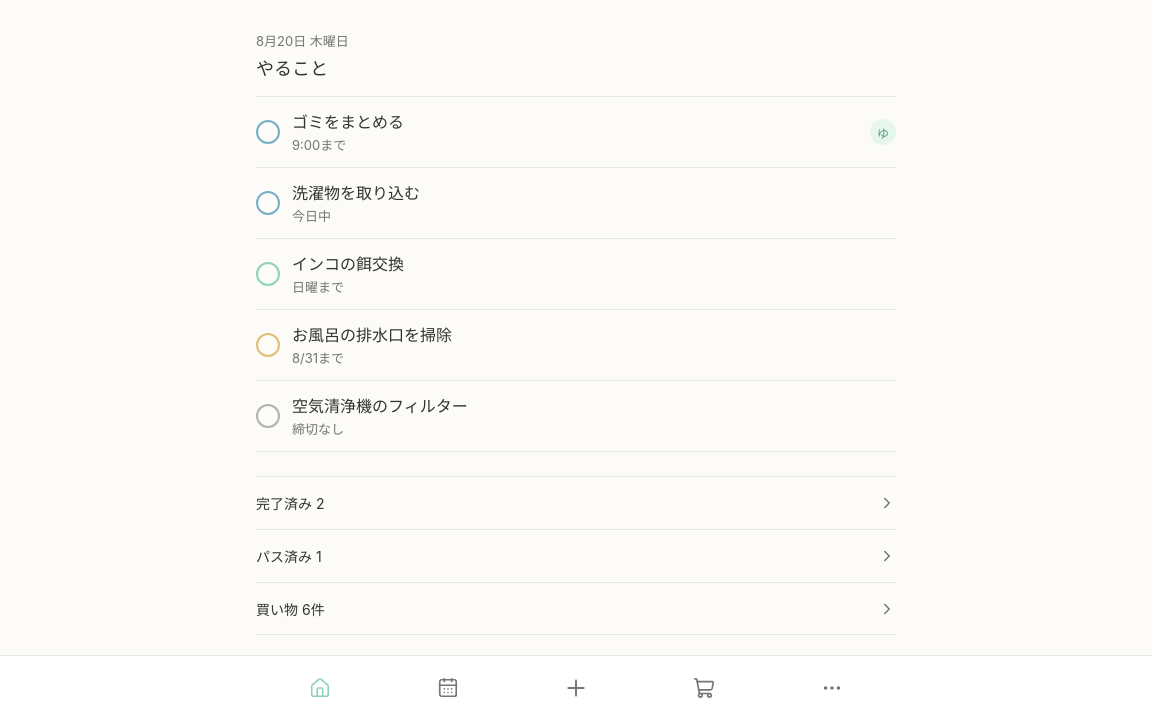
HomePage › shows the fixed completion date in edit after completing a Home task
Click the button with aria-label "ゴミをまとめるを完了" at (348, 122), box [256,97,896,167]
Wait 350 ms
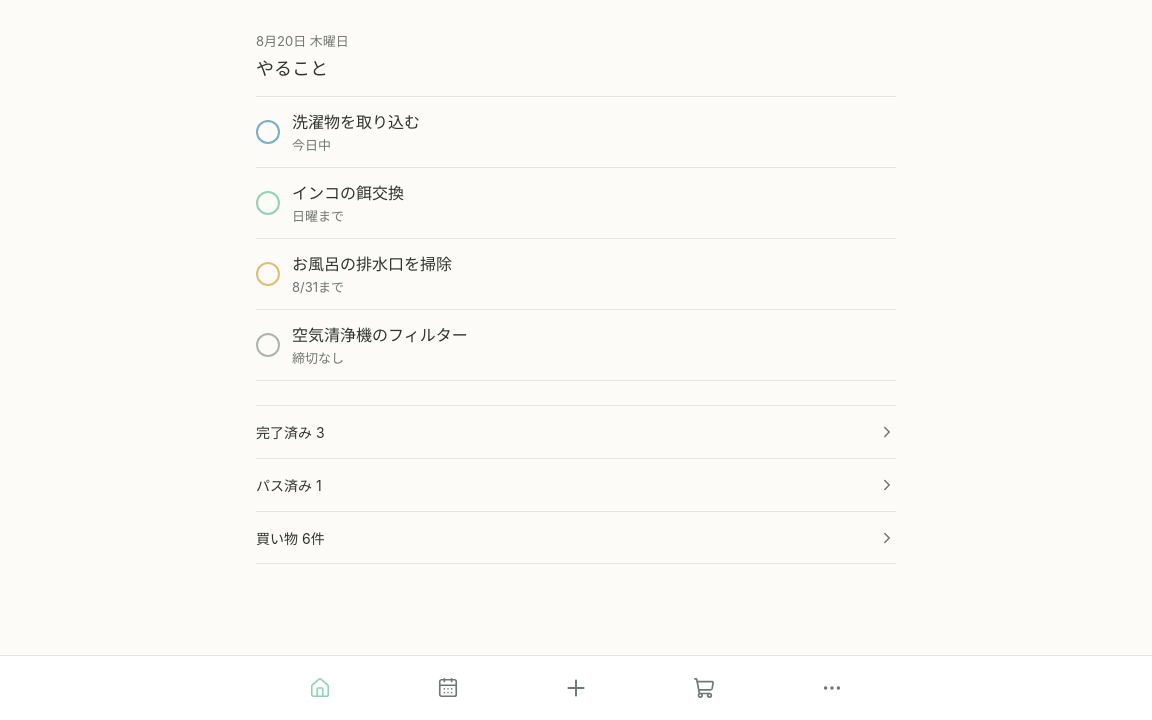
Click the button "完了済み 3" at (286, 433), box [256,406,896,458]
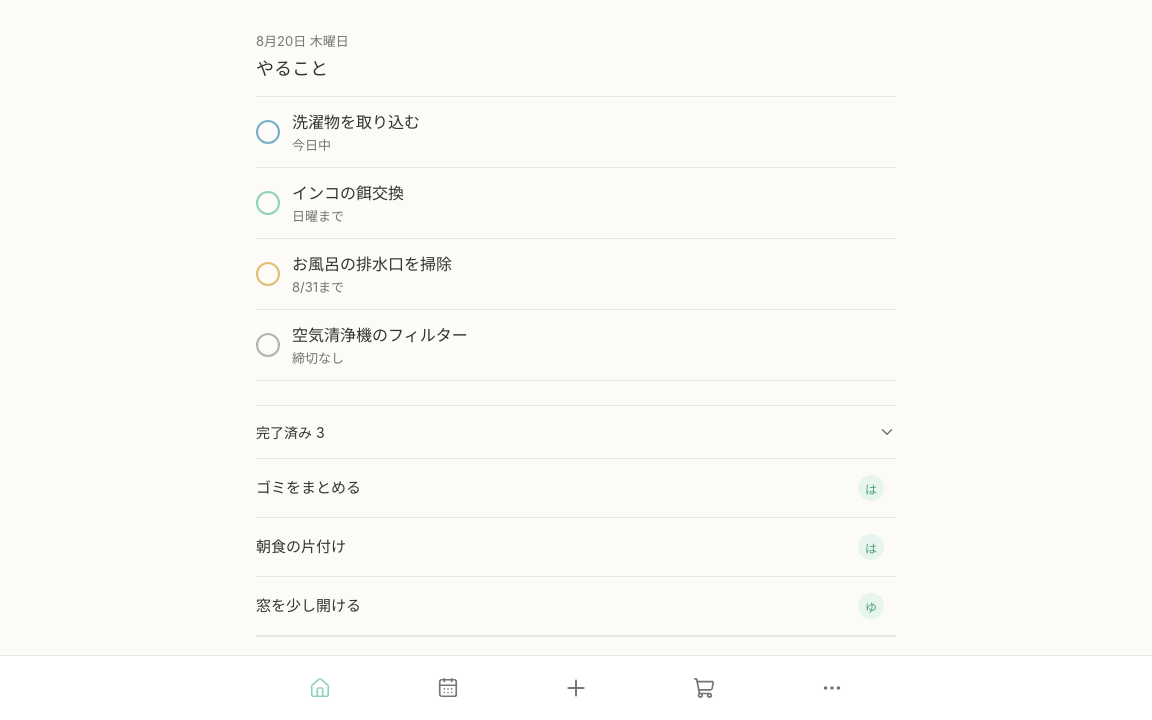
Press the mouse on the element showing "ゴミをまとめる は" at (576, 489), box [256,459,896,518]
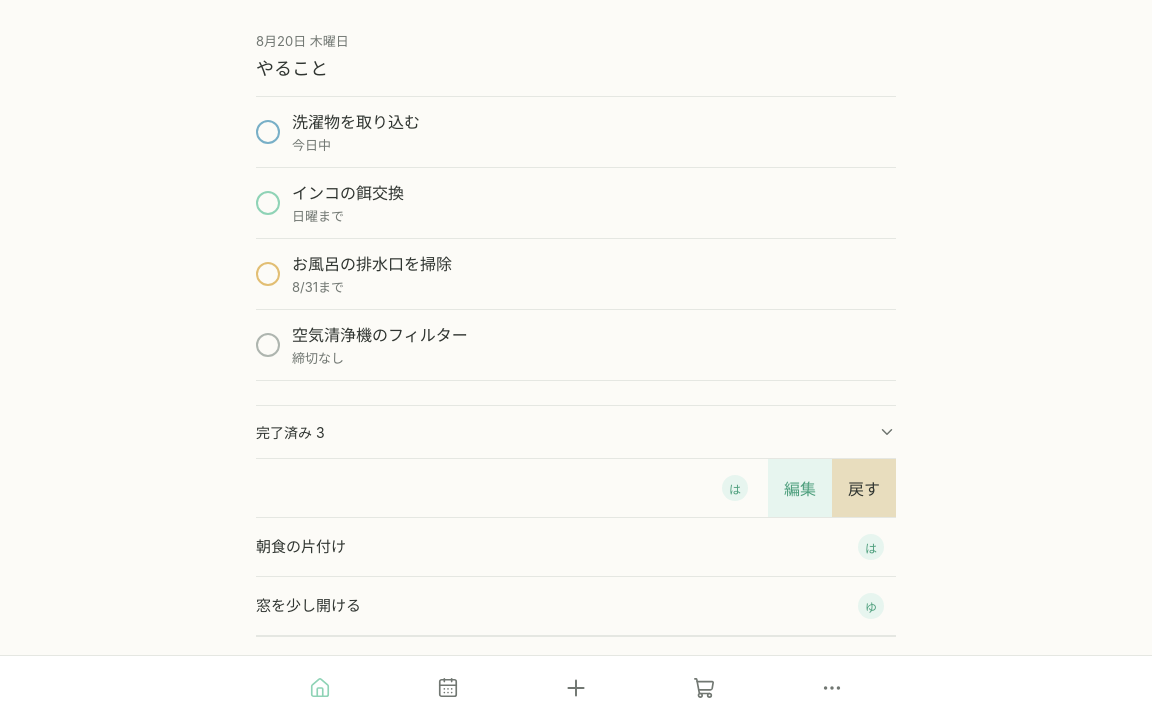
Click the button "編集" at (800, 488), box [768,459,832,517]
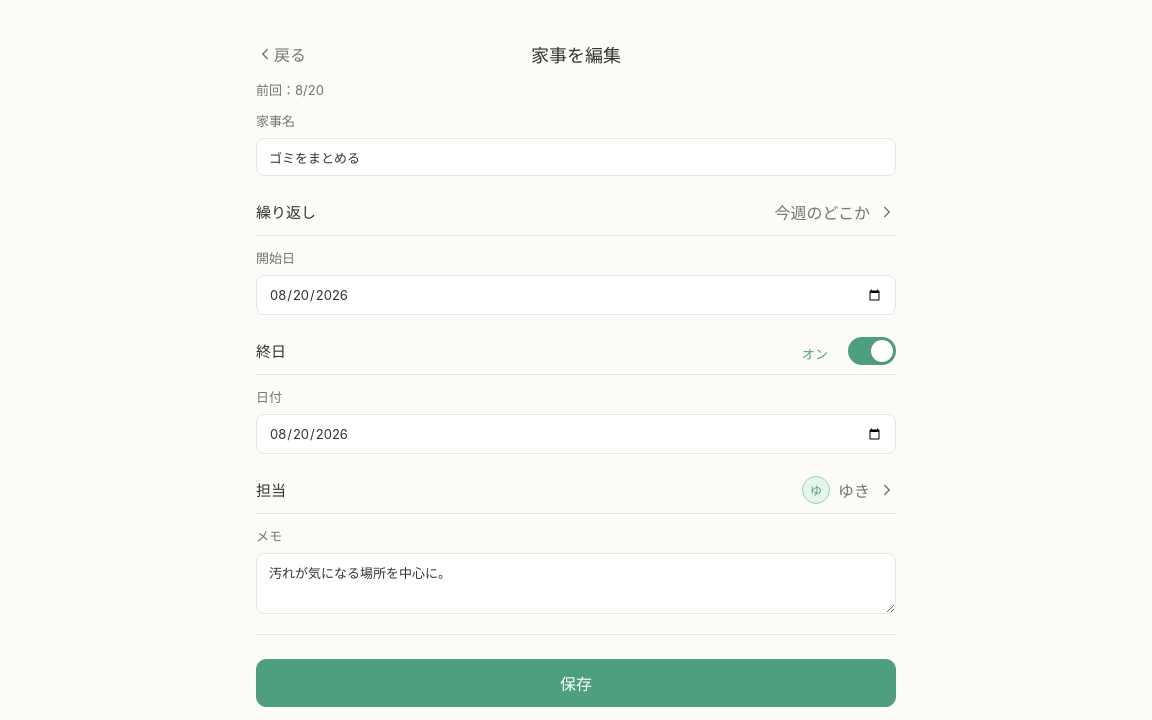
Result: the heading "家事を編集" is shown at [531,41,621,67]
Result: the text "前回：8/20" is shown at [256,82,324,98]
